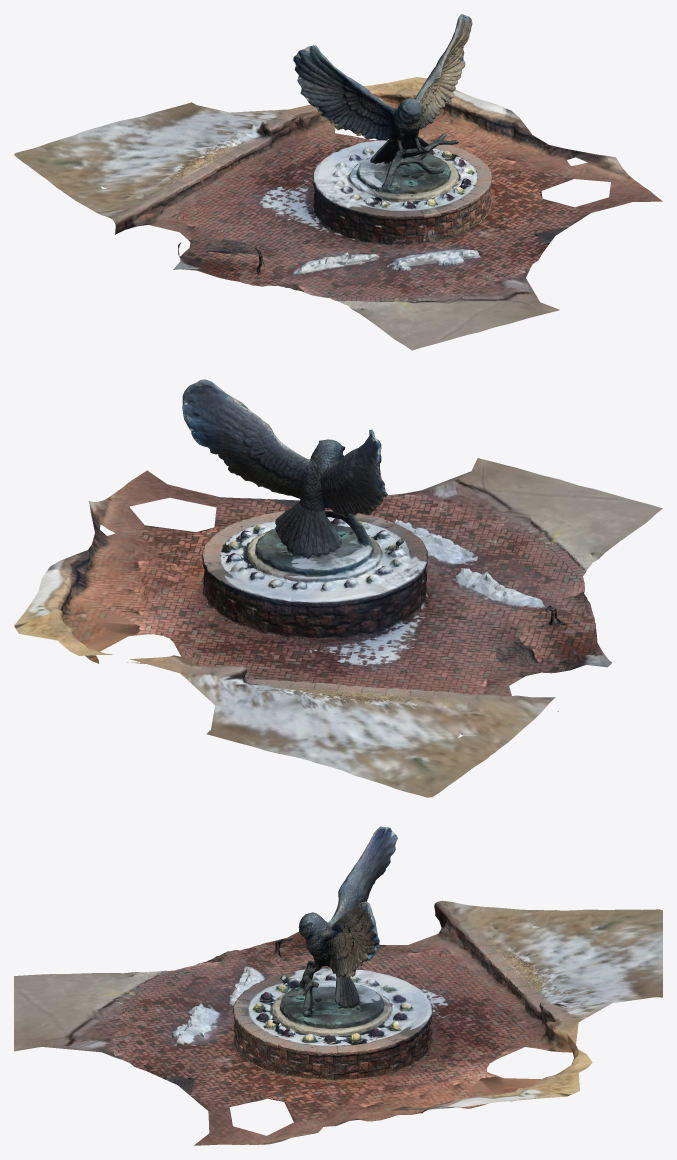
The model's file is Owl2026.glb.
3 views of the same model, one above another, from view 1: azimuth 30°, elevation 25°; view 2: azimuth 150°, elevation 25°; view 3: azimuth 270°, elevation 25° (orthographic). The views are drawn at different scales.
Bounding box in the file's own units: 2.71 × 0.9978 × 3.14.
Materials: 1 (1 with a texture image).
